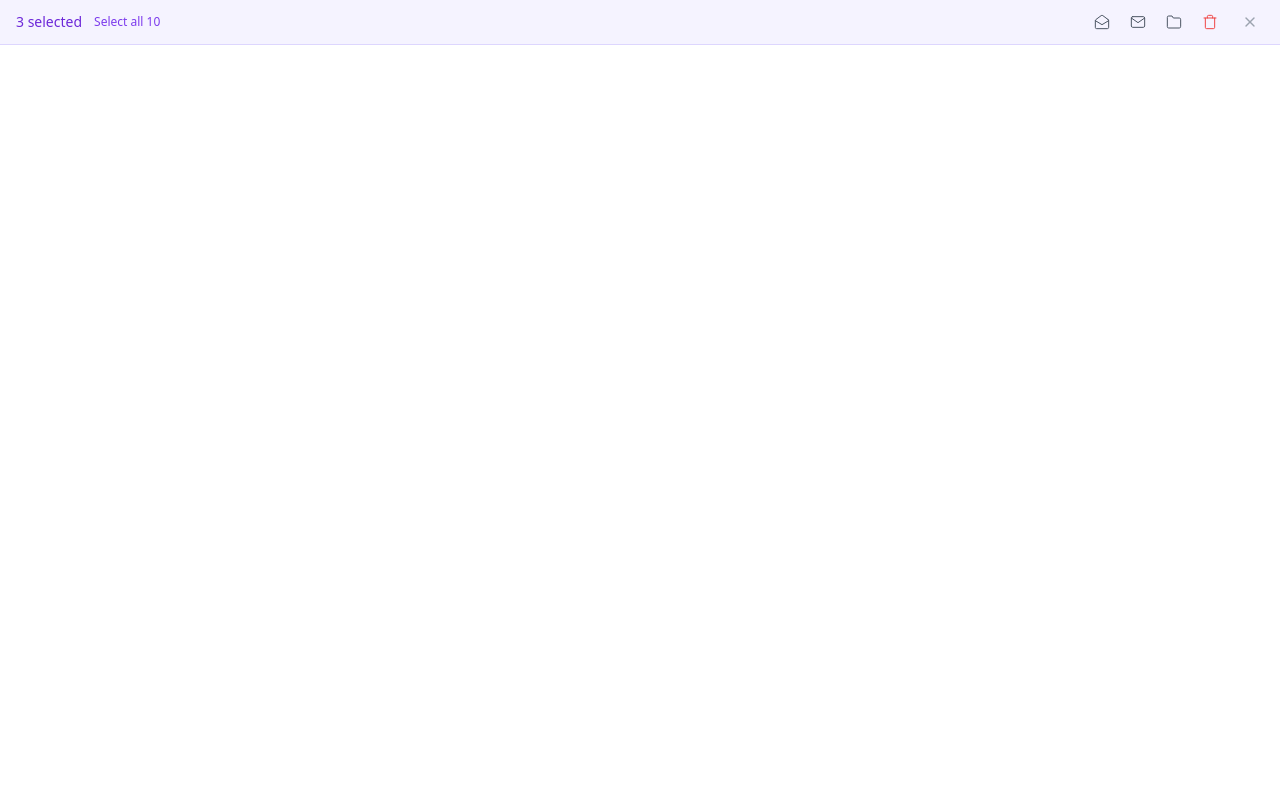
it: BulkActionsBar › closes move dropdown on outside click
Click the button titled "Move to folder" at [1174, 22], box [1160,8,1188,36]
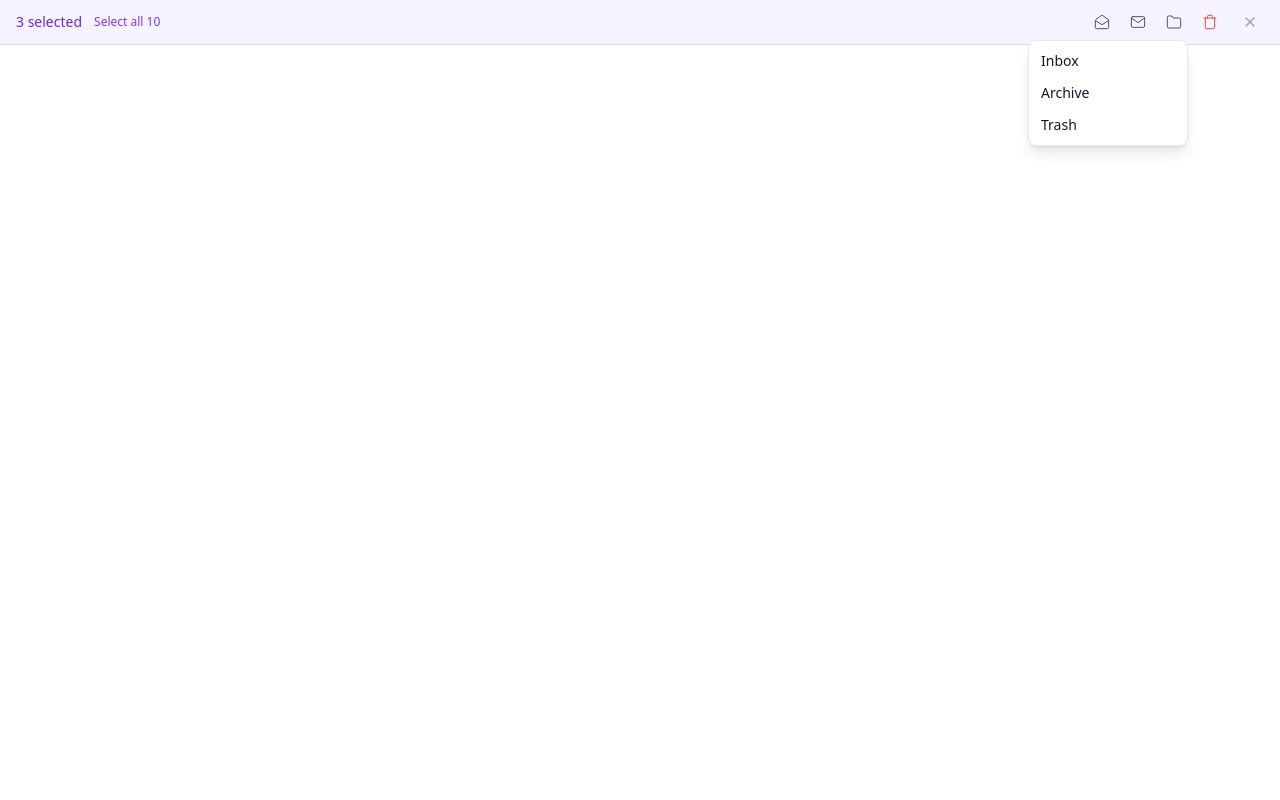
Expected: the menu is shown, [1028,40,1188,146]
Note: Click outside the menu
Press the mouse on the element showing "3 selected Select all 10 Inbox Archive Trash" at [640, 400], box [0,0,1279,799]
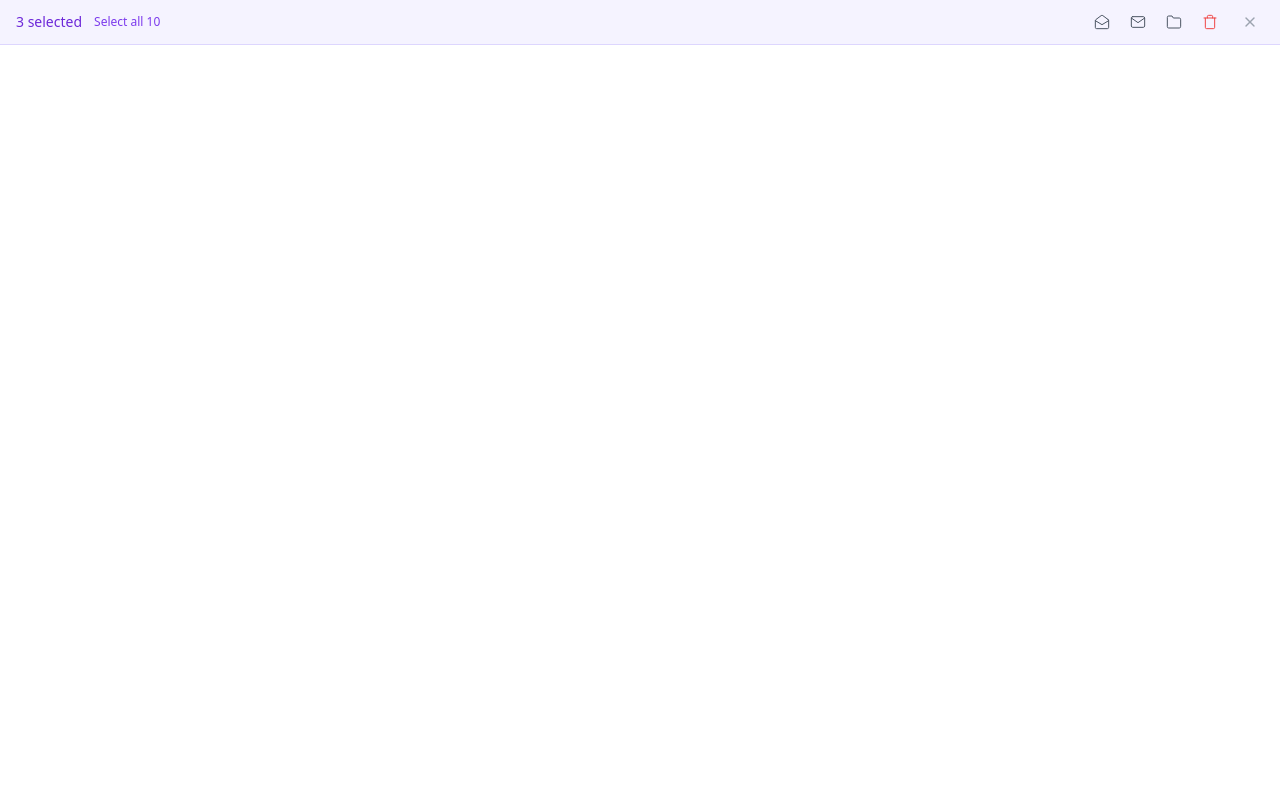
Expected: the menu is gone
